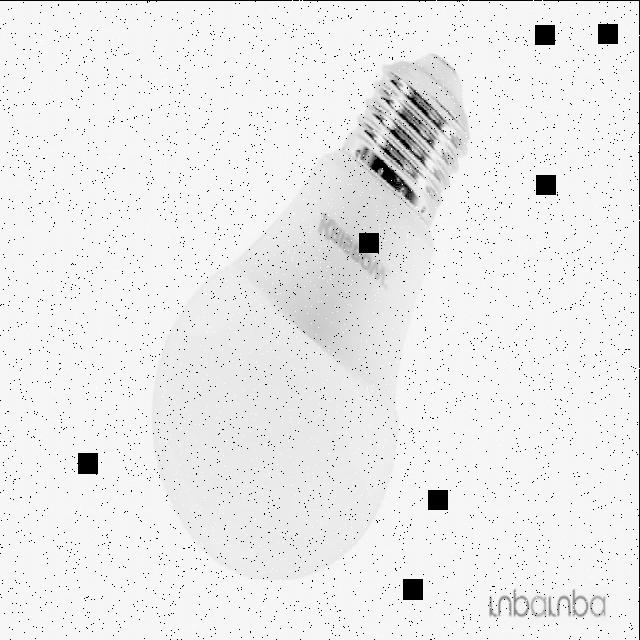light_bulb: (142, 41, 488, 592)
